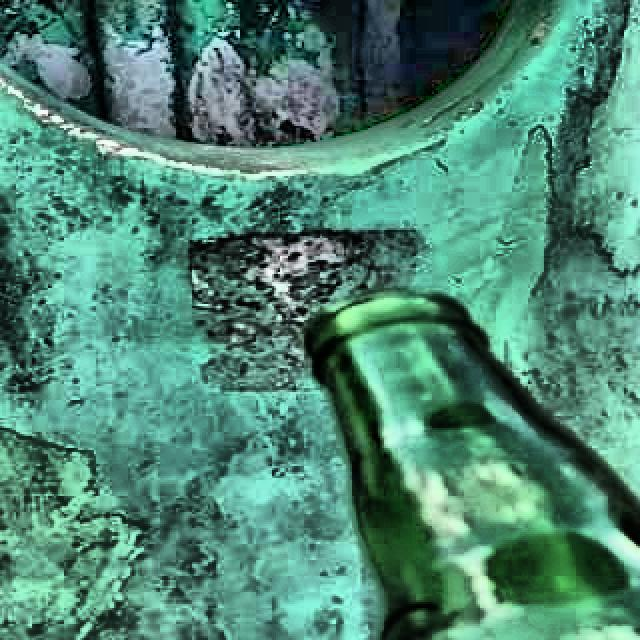glass: (307, 295, 640, 640)
